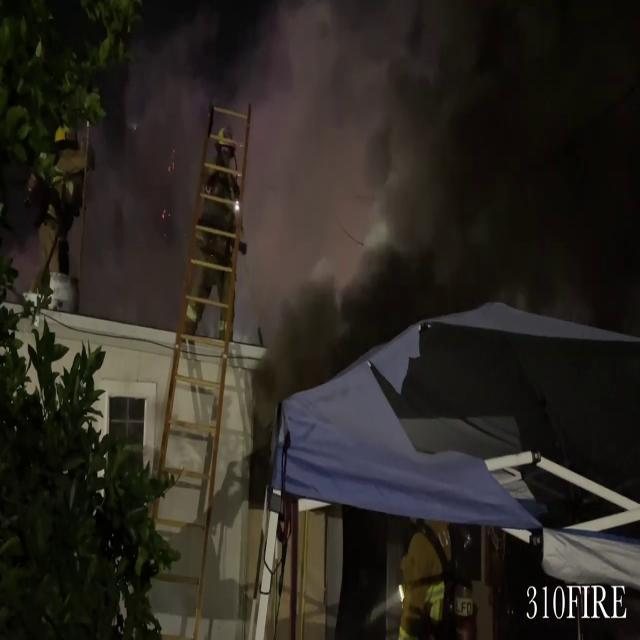Smoke: (73, 0, 555, 318)
